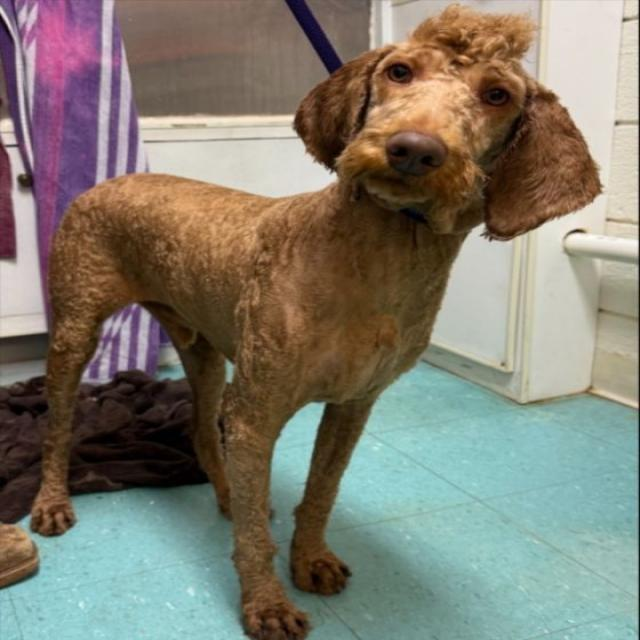Poodle_dog: (282, 2, 604, 249)
